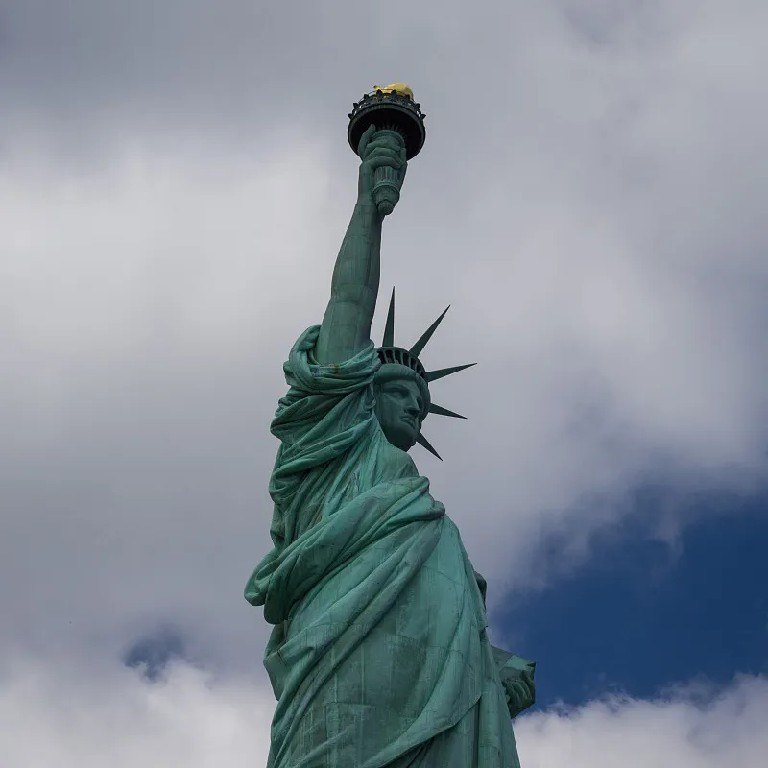SL: (243, 81, 538, 768)
